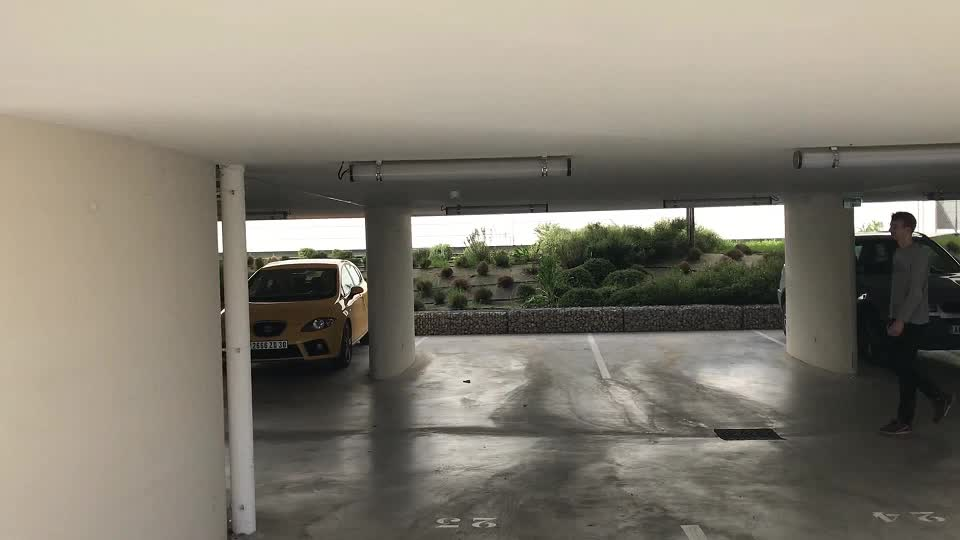jugador: (871, 202, 956, 443)
